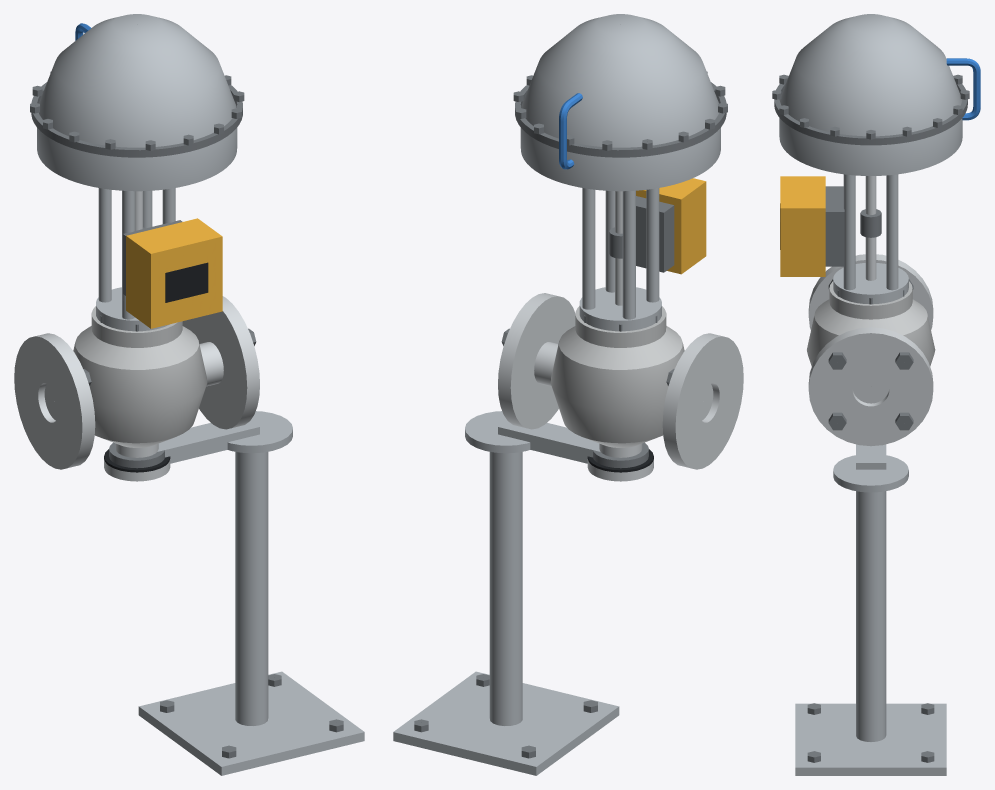
File: dampfregulierventil.glb
3 renders of one model, left to right at view 1: azimuth 30°, elevation 25°; view 2: azimuth 150°, elevation 25°; view 3: azimuth 270°, elevation 25°, orthographic. The views are drawn at different scales.
Visible parts, largest first — view 1: antriebsgehaeuse, fussplatte, gusskoerper, stuetzrohr, flansch_ein, reglergehaeuse, flansch_aus, membranflansch, staenderarm, stuetzflansch, deckel, laternensteg_1 (+6 smaller); view 2: antriebsgehaeuse, fussplatte, gusskoerper, stuetzrohr, flansch_ein, flansch_aus, reglergehaeuse, membranflansch, staenderarm, laternenfuss, reglerhalter, laternensteg_1 (+10 smaller); view 3: antriebsgehaeuse, flansch_aus, fussplatte, stuetzrohr, reglergehaeuse, gusskoerper, membranflansch, laternenfuss, stuetzflansch, flansch_ein, reglerhalter, laternensteg_0 (+7 smaller).
Part boxes in pixels (left/top/right/bottom): antriebsgehaeuse: left=37, top=14, right=237, bottom=191; fussplatte: left=138, top=671, right=364, bottom=775; gusskoerper: left=73, top=326, right=207, bottom=447; stuetzrohr: left=235, top=422, right=268, bottom=725; flansch_ein: left=14, top=333, right=95, bottom=469; reglergehaeuse: left=126, top=218, right=222, bottom=328; flansch_aus: left=182, top=296, right=259, bottom=429; membranflansch: left=31, top=82, right=242, bottom=157; staenderarm: left=157, top=420, right=259, bottom=463; stuetzflansch: left=227, top=411, right=292, bottom=453; deckel: left=91, top=306, right=182, bottom=347; laternensteg_1: left=98, top=188, right=111, bottom=302; antriebsgehaeuse: left=520, top=14, right=720, bottom=191; fussplatte: left=393, top=671, right=619, bottom=775; gusskoerper: left=550, top=326, right=684, bottom=447; stuetzrohr: left=489, top=421, right=522, bottom=725; flansch_ein: left=662, top=333, right=743, bottom=469; flansch_aus: left=498, top=293, right=575, bottom=429; reglergehaeuse: left=636, top=178, right=706, bottom=274; membranflansch: left=515, top=82, right=726, bottom=157; staenderarm: left=498, top=420, right=600, bottom=463; laternenfuss: left=579, top=287, right=661, bottom=331; reglerhalter: left=636, top=196, right=674, bottom=272; laternensteg_1: left=622, top=190, right=635, bottom=319; antriebsgehaeuse: left=779, top=14, right=962, bottom=175; flansch_aus: left=808, top=327, right=933, bottom=446; fussplatte: left=795, top=703, right=946, bottom=775; stuetzrohr: left=856, top=469, right=886, bottom=741; reglergehaeuse: left=780, top=176, right=825, bottom=276; gusskoerper: left=807, top=299, right=935, bottom=366; membranflansch: left=774, top=83, right=967, bottom=145; laternenfuss: left=833, top=263, right=908, bottom=304; stuetzflansch: left=833, top=455, right=908, bottom=492; flansch_ein: left=808, top=254, right=933, bottom=329; reglerhalter: left=825, top=186, right=844, bottom=266; laternensteg_0: left=886, top=174, right=898, bottom=290.
Bounding box in the file's own units: 0.3915 × 0.976 × 0.2756.
